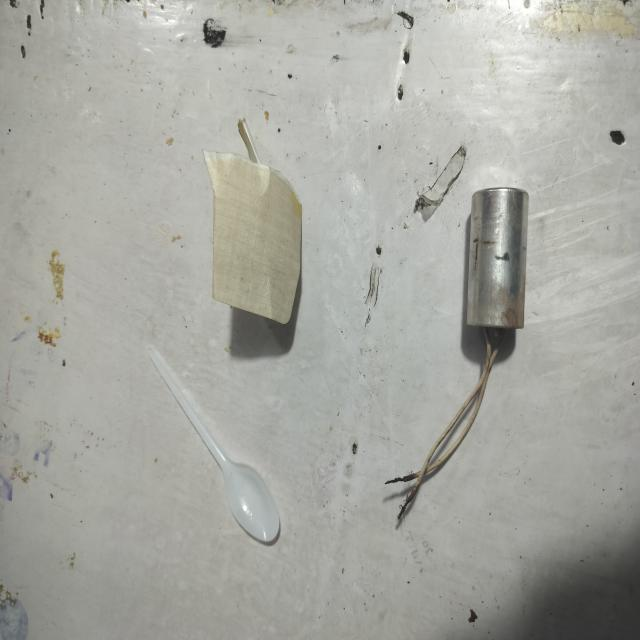metal: (467, 182, 548, 334)
paper: (174, 143, 343, 333)
plastic: (138, 338, 361, 576)
